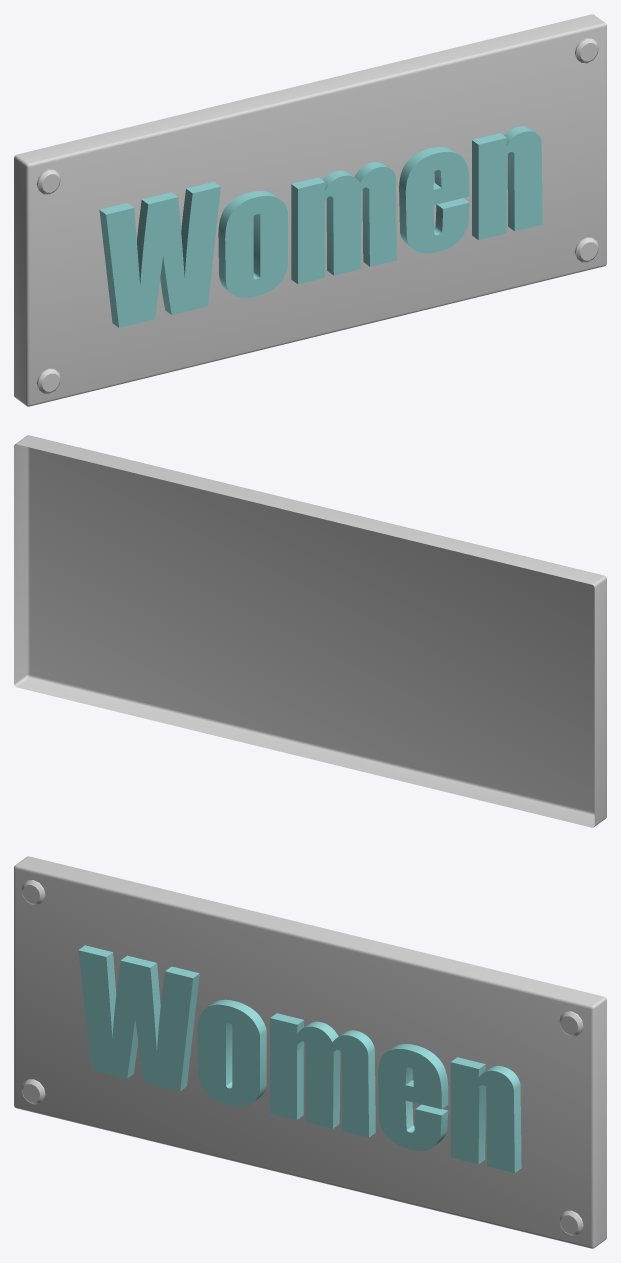
The model's file is SM_RRWomenSign.FBX.
3 renders of one model, top to bottom at view 1: azimuth 30°, elevation 25°; view 2: azimuth 150°, elevation 25°; view 3: azimuth 330°, elevation 25°, orthographic.
Visible parts, largest first — view 1: SM_RRWomenSign_LOD0; view 2: SM_RRWomenSign_LOD0; view 3: SM_RRWomenSign_LOD0.
Part boxes in pixels (<box>): SM_RRWomenSign_LOD0: <box>14,14,606,406</box>; SM_RRWomenSign_LOD0: <box>14,435,606,827</box>; SM_RRWomenSign_LOD0: <box>14,856,606,1248</box>.
Size of the model in its own units: 50 by 3 by 20.
